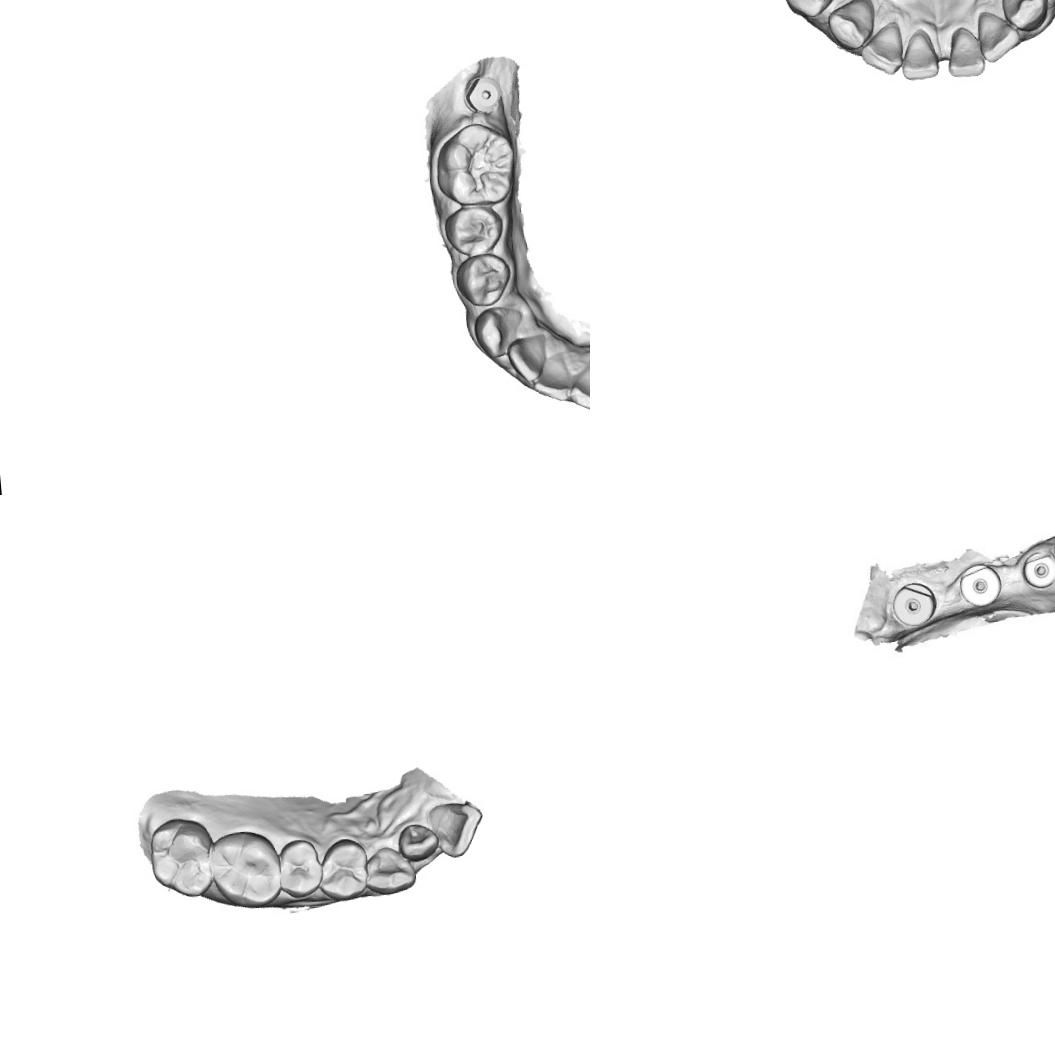canine: (471, 299, 525, 361), (822, 0, 878, 54), (362, 844, 418, 896), (997, 0, 1051, 34)
implant: (886, 576, 941, 631), (958, 560, 1004, 616), (458, 70, 506, 114), (1019, 547, 1055, 590)
incisor: (426, 798, 487, 860), (856, 20, 909, 81), (972, 5, 1024, 66), (504, 330, 553, 386), (527, 352, 577, 404), (896, 28, 942, 84), (941, 26, 986, 80), (396, 821, 440, 863), (564, 358, 590, 414)
molar: (430, 120, 520, 210), (208, 827, 281, 912), (146, 814, 216, 900)
premolar: (451, 250, 516, 310), (314, 835, 370, 903), (442, 202, 506, 256), (274, 835, 325, 900), (776, 0, 841, 20)
